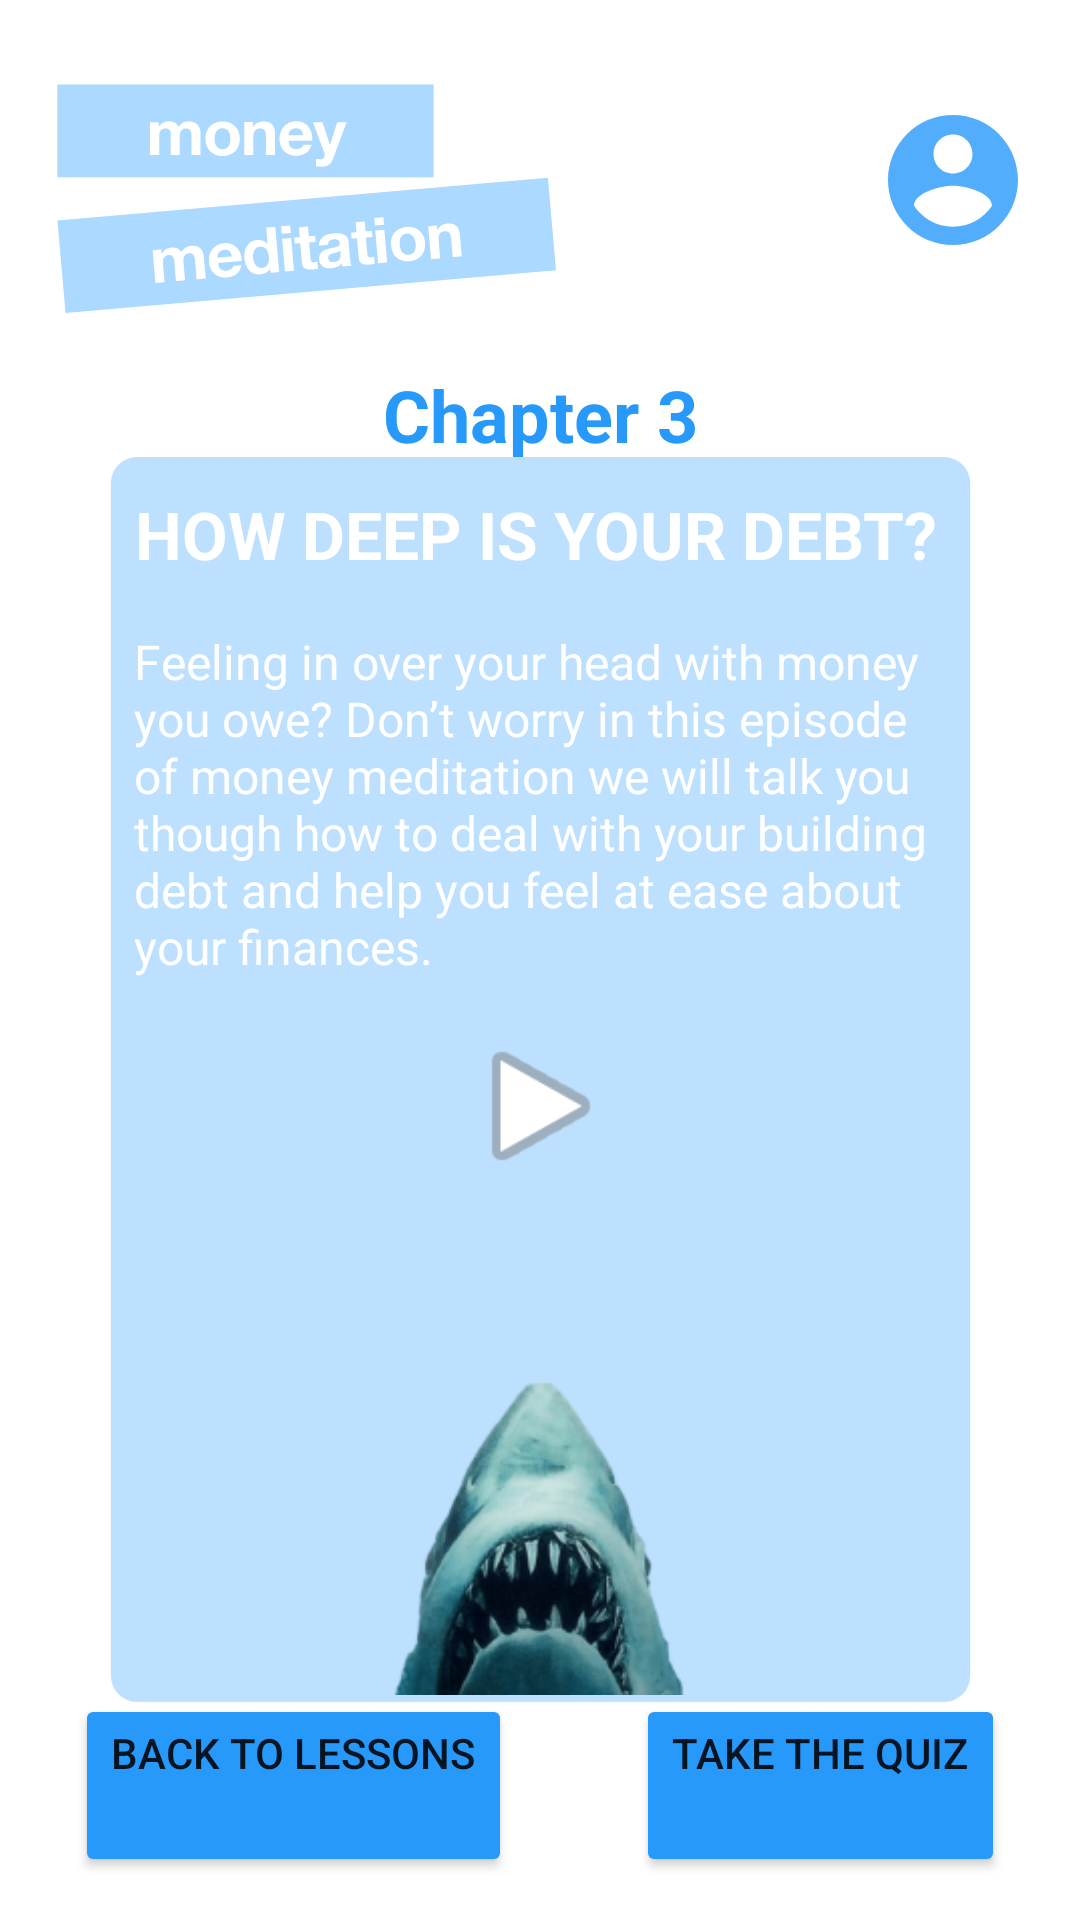

Icons on this 1080px x 1920px Android screen, each with its box as region(x1, y1, x2, y2):
account: region(888, 115, 1018, 245)
play: region(492, 1052, 590, 1160)
shark: region(395, 1383, 683, 1695)
